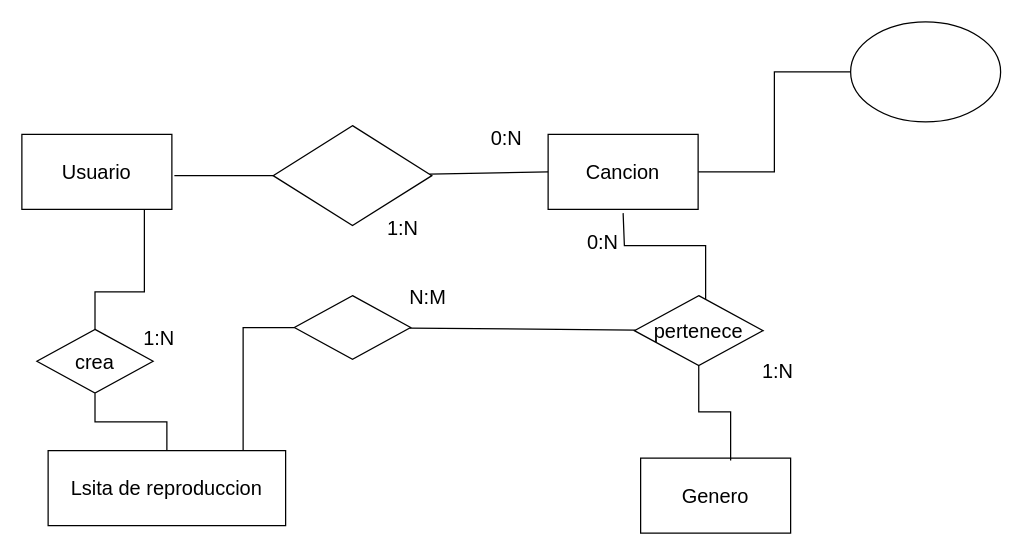
The diagram is 1023 pixels wide and 555 high, and some of its shapes have lost their labels. The shapes that lost their labels are listed below. From the top down, each one's centre as x and y in pixels, then its label:
At point (925, 71): "nombre".
At point (352, 175): "registra".
At point (352, 326): "contiene".
